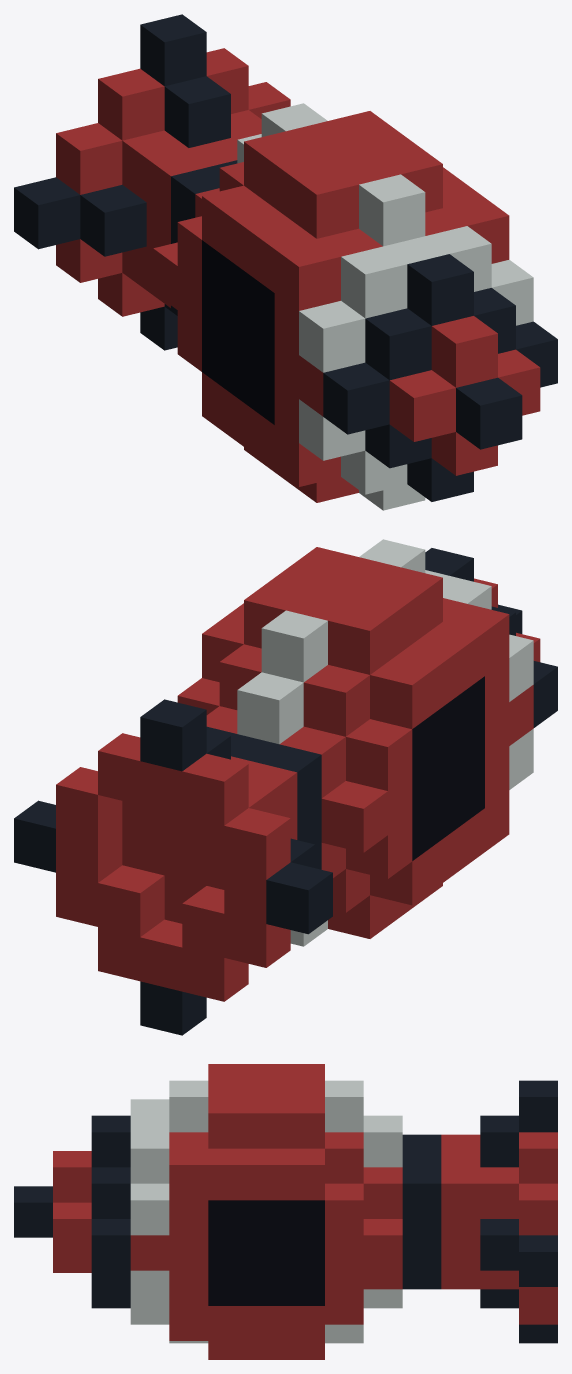
The model's file is TransportRocket.obj.
3 views of the same model, one above another, from view 1: azimuth 30°, elevation 25°; view 2: azimuth 150°, elevation 25°; view 3: azimuth 270°, elevation 25° (orthographic). The views are drawn at different scales.
Bounding box in the file's own units: 0.7 × 0.7 × 1.4.
1 material, 1 textured.
